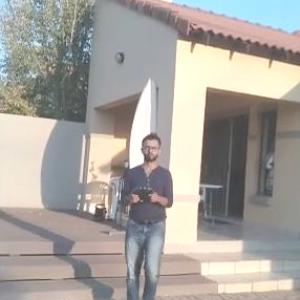follow: (116, 129, 178, 299)
